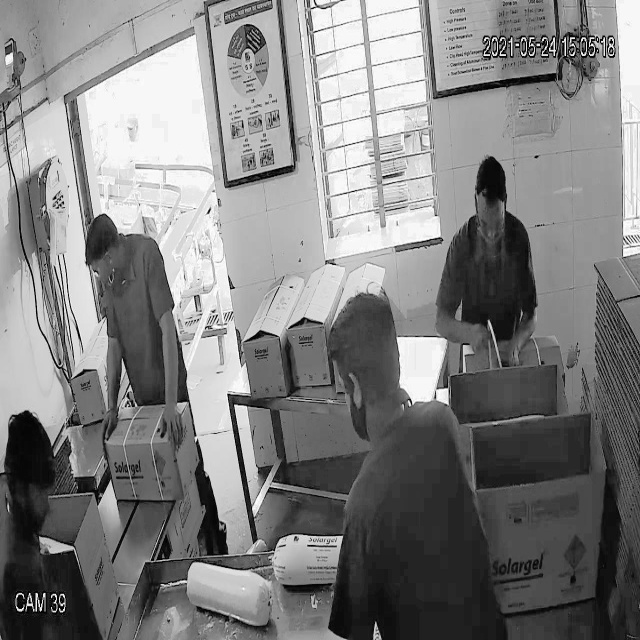Gafas: (474, 209, 508, 243)
